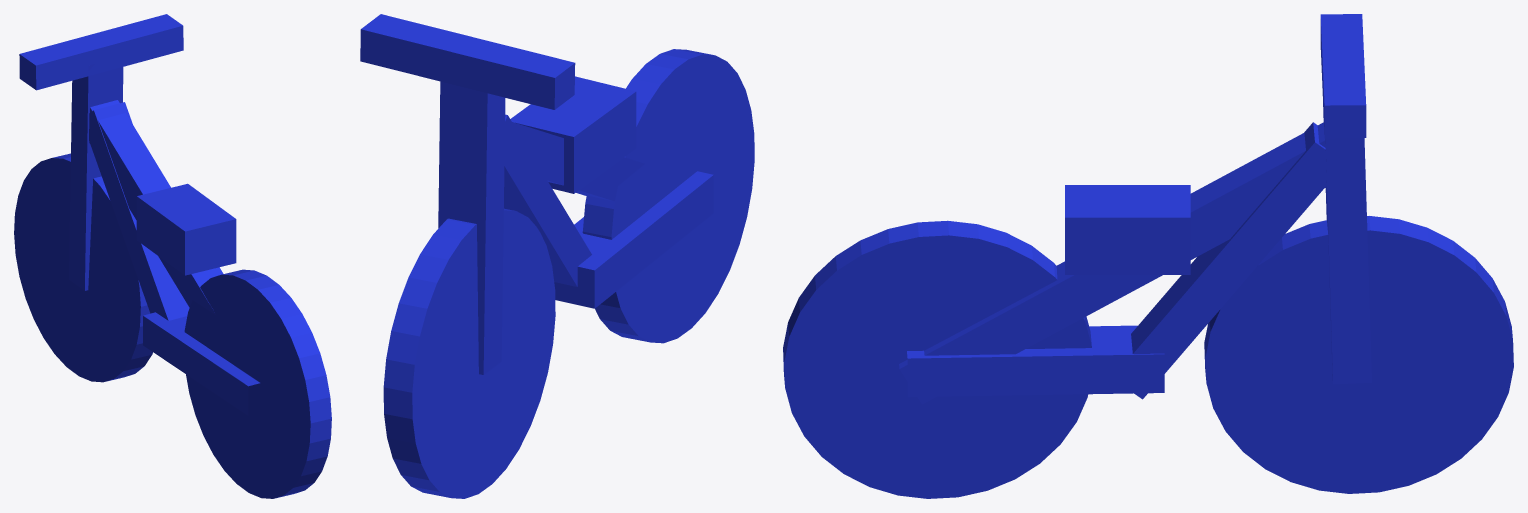
Rendered from motorcycle.glb.
The picture shows the model from 3 angles, left to right: view 1: azimuth 30°, elevation 25°; view 2: azimuth 150°, elevation 25°; view 3: azimuth 270°, elevation 25°; orthographic projection. The views are drawn at different scales.
Parts seen in each view (by area): view 1: motorbike; view 2: motorbike; view 3: motorbike.
Boxes of the visible parts, x1,y1,x2,y2 form: motorbike: (14,14,331,498); motorbike: (360,14,754,498); motorbike: (783,14,1513,498).
Size of the model in its own units: 0.5766 by 1.23 by 1.87.
